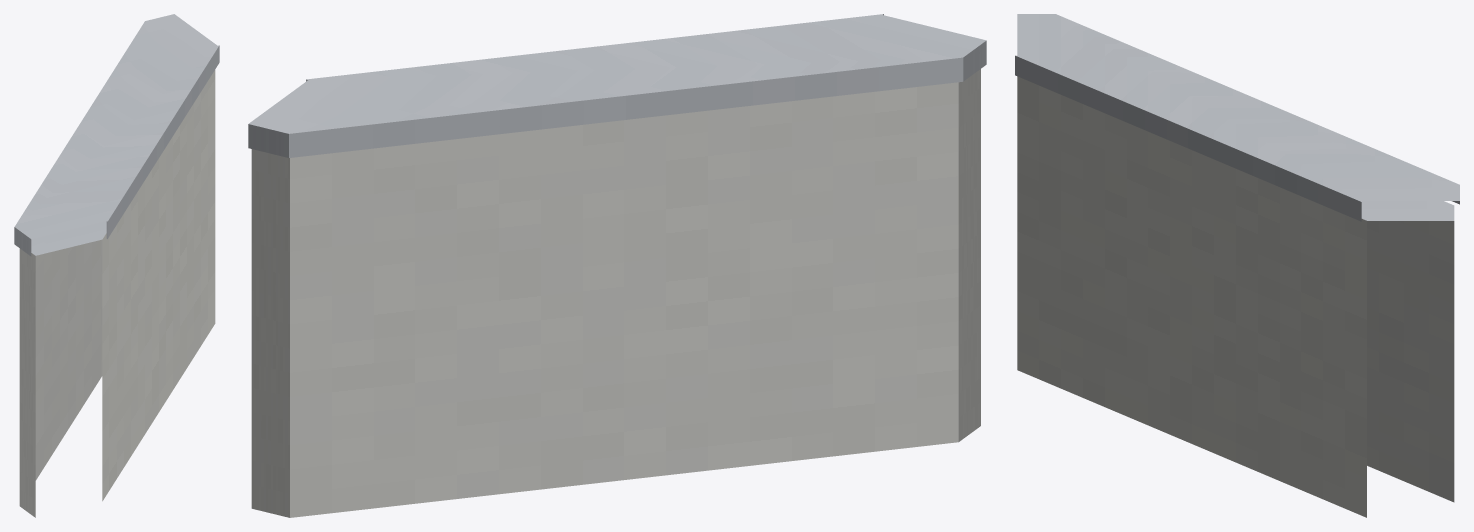
File: corner_board.obj
The picture shows the model from 3 angles, left to right: view 1: azimuth 30°, elevation 25°; view 2: azimuth 150°, elevation 25°; view 3: azimuth 270°, elevation 25°; orthographic projection. The views are drawn at different scales.
Parts seen in each view (by area): view 1: corner_board; view 2: corner_board; view 3: corner_board.
Boxes of the visible parts, x1,y1,x2,y2 form: corner_board: [14, 14, 219, 517]; corner_board: [248, 14, 986, 517]; corner_board: [1015, 14, 1459, 517].
Size of the model in its own units: 1.27 by 1 by 1.27.
